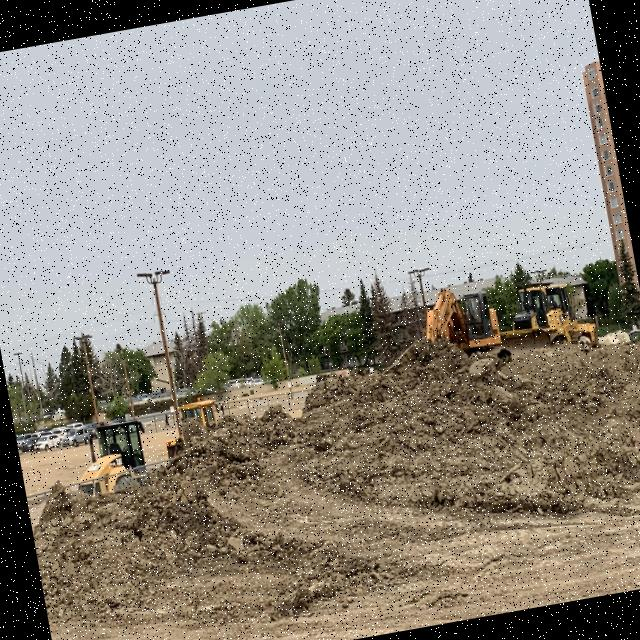Excavator: (414, 276, 504, 366)
Loader: (156, 393, 240, 465)
Roller: (54, 418, 154, 499)
